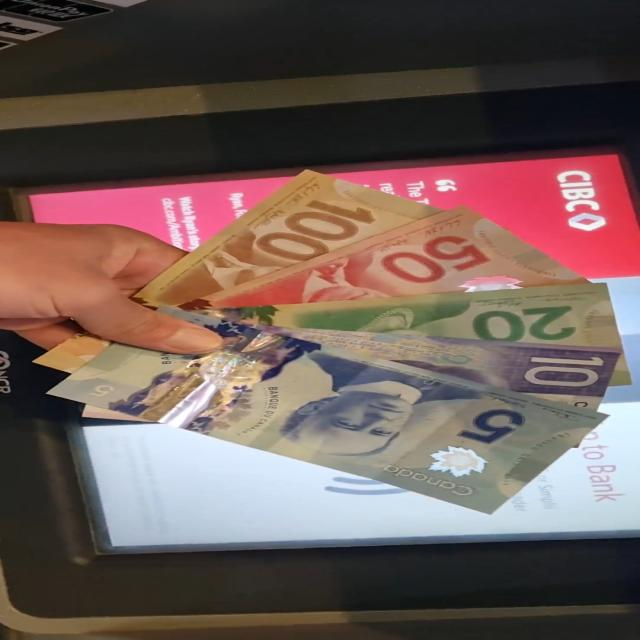10 cad: (236, 320, 623, 409)
100 cad: (136, 170, 443, 306)
20 cad: (198, 285, 624, 351)
5 cad: (40, 326, 606, 512)
50 cad: (188, 205, 592, 304)
